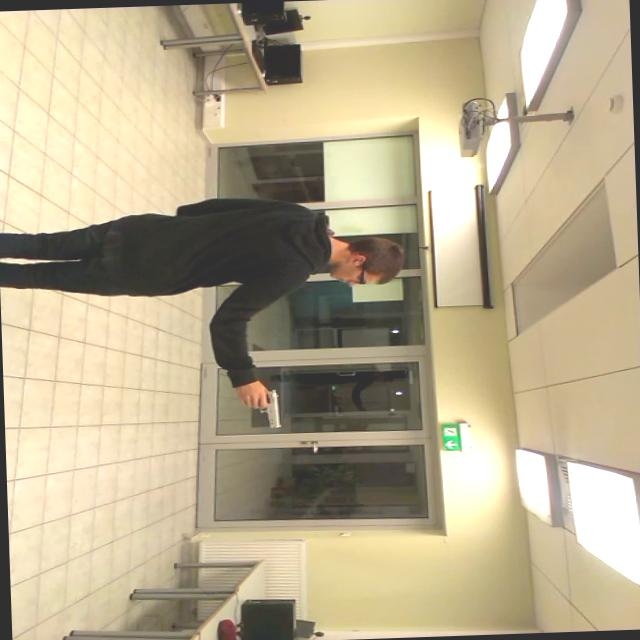handgun: (239, 376, 295, 439)
